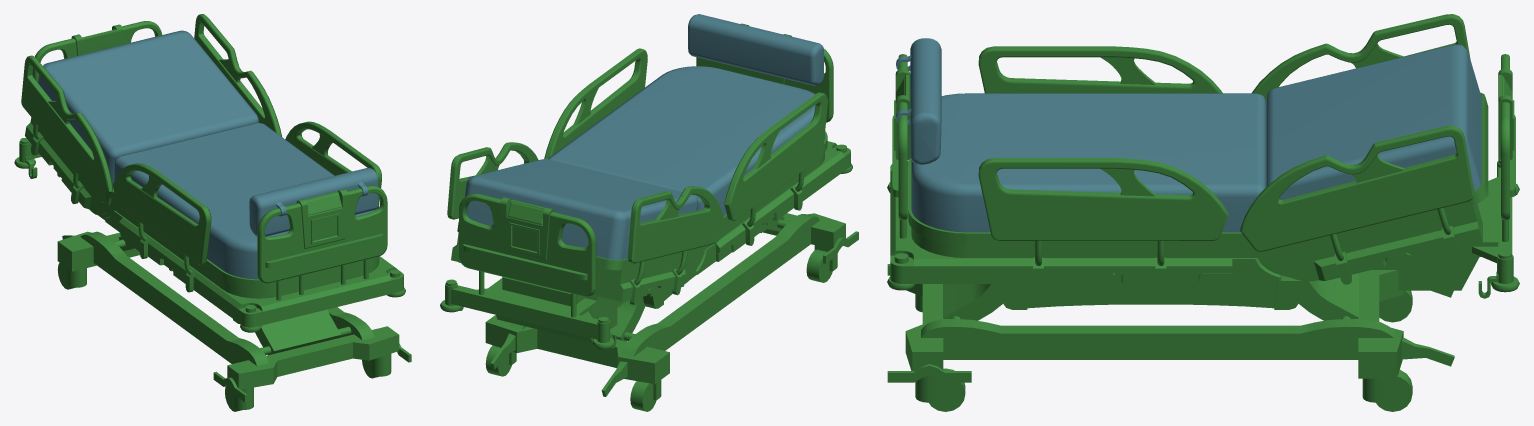
File: SM_HospitalBed_01b.FBX
3 renders of one model, left to right at view 1: azimuth 30°, elevation 25°; view 2: azimuth 150°, elevation 25°; view 3: azimuth 270°, elevation 25°, orthographic. The views are drawn at different scales.
Visible parts, largest first — view 1: SM_HospitalBed_01b_LOD0; view 2: SM_HospitalBed_01b_LOD0; view 3: SM_HospitalBed_01b_LOD0.
Boxes of the visible parts, x1,y1,x2,y2 form: SM_HospitalBed_01b_LOD0: (14,14,411,411); SM_HospitalBed_01b_LOD0: (440,14,858,411); SM_HospitalBed_01b_LOD0: (887,14,1519,411).
Size of what is drawn, in the model's own units: 111 by 130 by 255.
